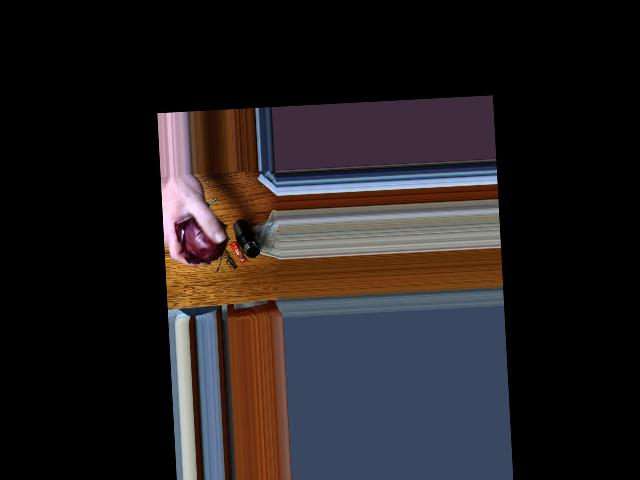onion: (179, 212, 221, 261)
